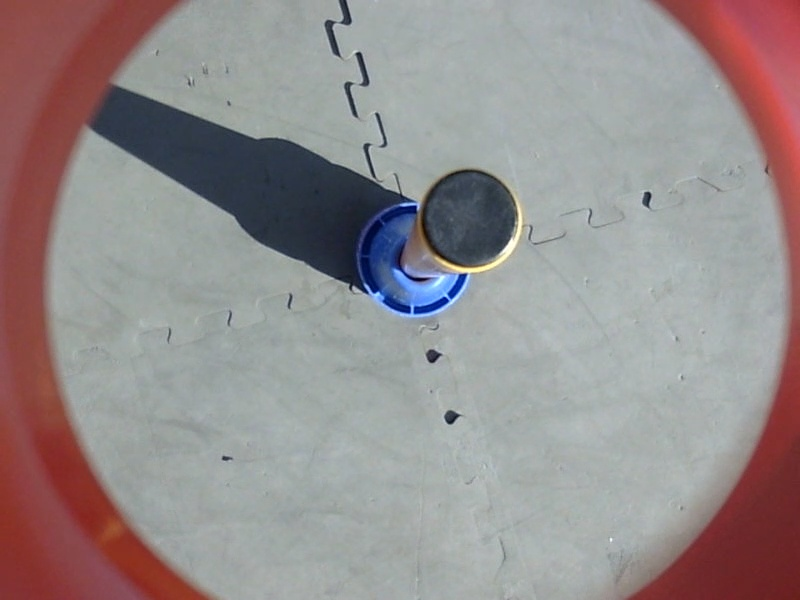tip: (412, 164, 527, 277)
